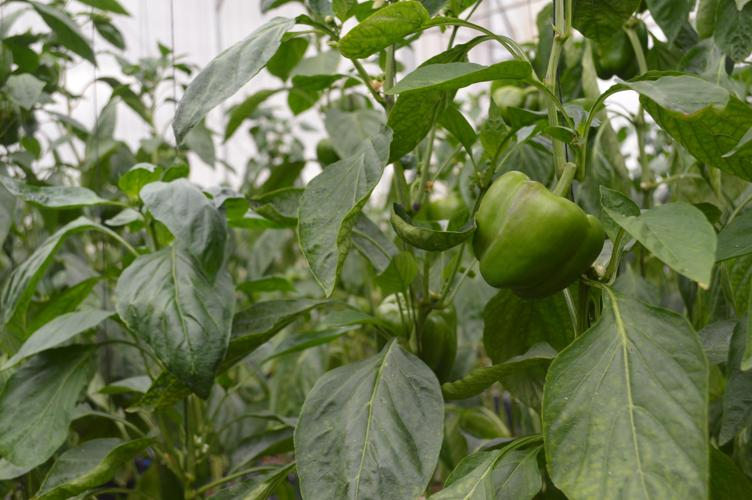BellPepper: (470, 175, 616, 310), (378, 293, 475, 391)
